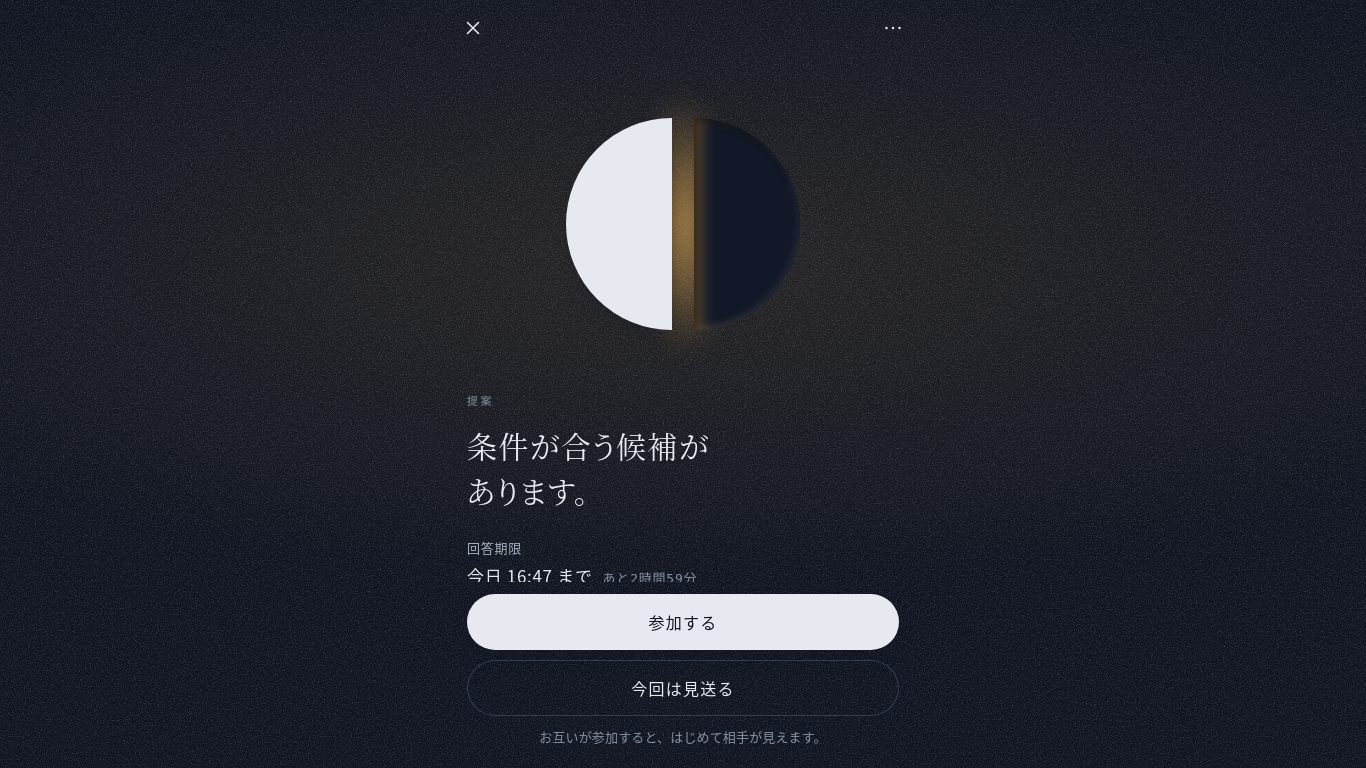
it: LatchScreen › 参加するで応答がmatchedなら演出つきのつながりました
Click the button "参加する" at (683, 622), box top-left (467, 594), bottom-right (899, 650)
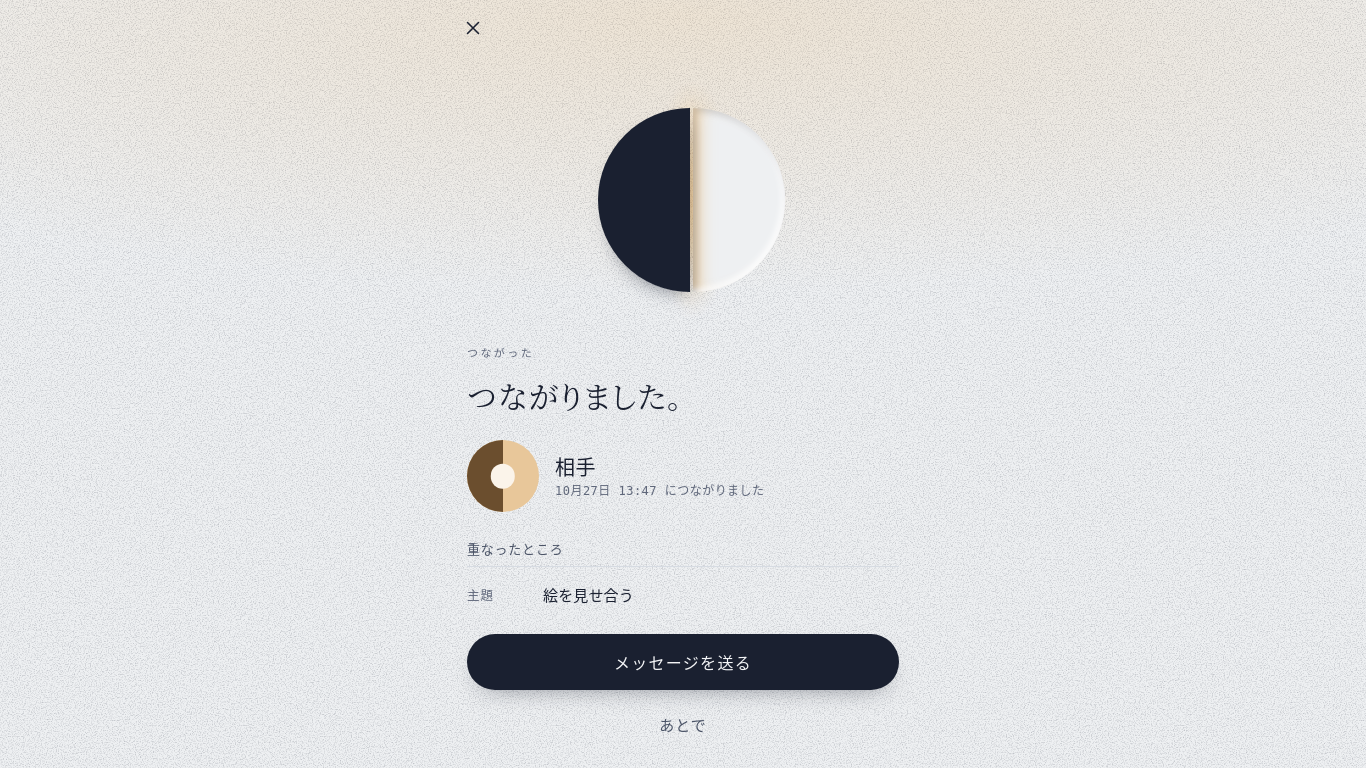
Expected: the heading "つながりました。" is shown, top-left (467, 373), bottom-right (684, 417)
Expected: the element with class "is-fresh" is shown
